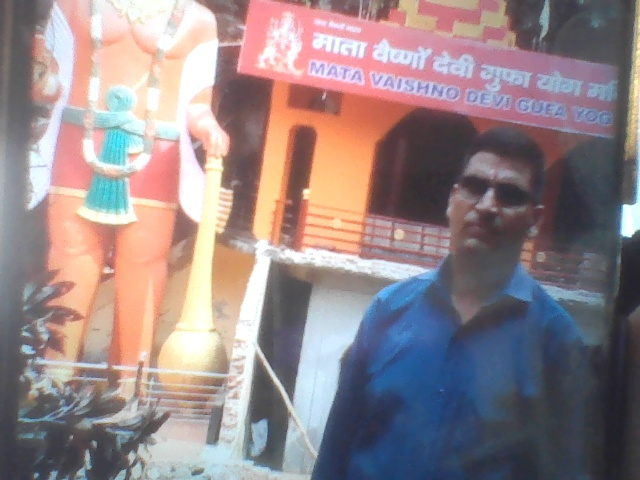fake: (430, 114, 551, 285)
